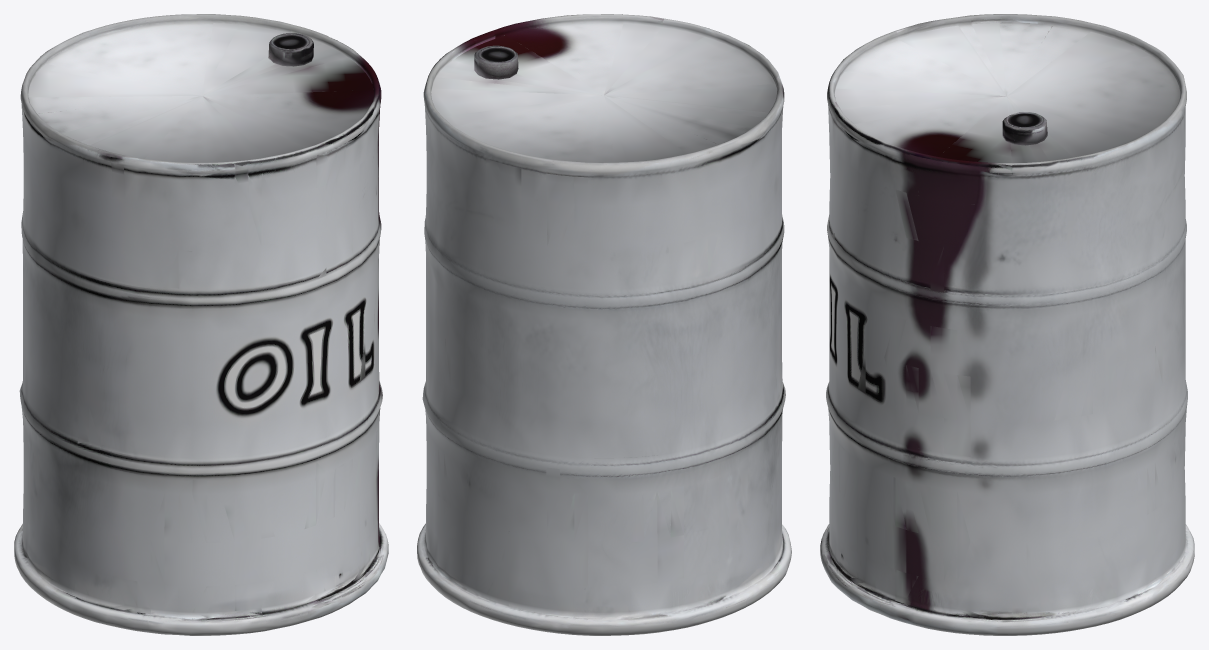
The model's file is Oil_Spill_texture.fbx.
3 renders of one model, left to right at view 1: azimuth 30°, elevation 25°; view 2: azimuth 150°, elevation 25°; view 3: azimuth 270°, elevation 25°, orthographic.
Parts seen in each view (by area): view 1: Mesh_0; view 2: Mesh_0; view 3: Mesh_0.
Part boxes in pixels (bbox=[...]): Mesh_0: bbox=[14, 14, 388, 635]; Mesh_0: bbox=[417, 14, 791, 635]; Mesh_0: bbox=[820, 14, 1194, 635].
Size of the model in its own units: 133 by 191 by 133.
1 material, 1 textured.
